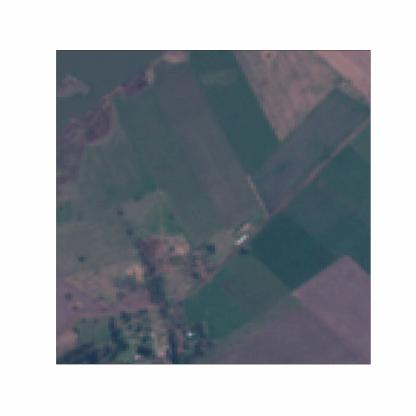silobolsa: (235, 232, 249, 248)
